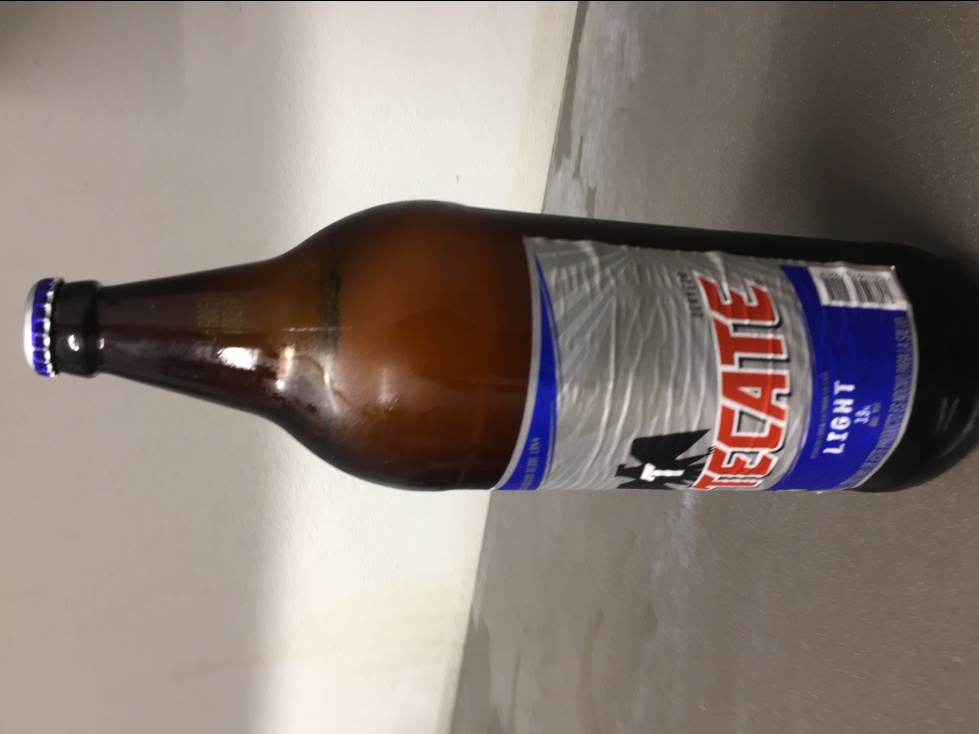tecateC: (18, 201, 977, 505)
